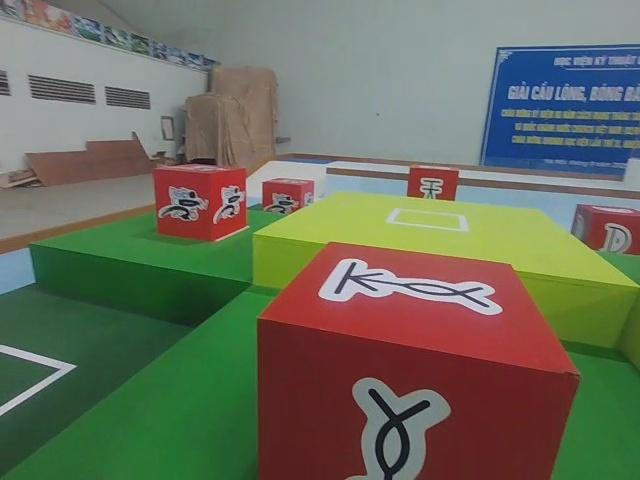R1: (153, 161, 252, 245), (261, 177, 315, 219)
R2 Real: (248, 239, 583, 480), (571, 194, 640, 257)
